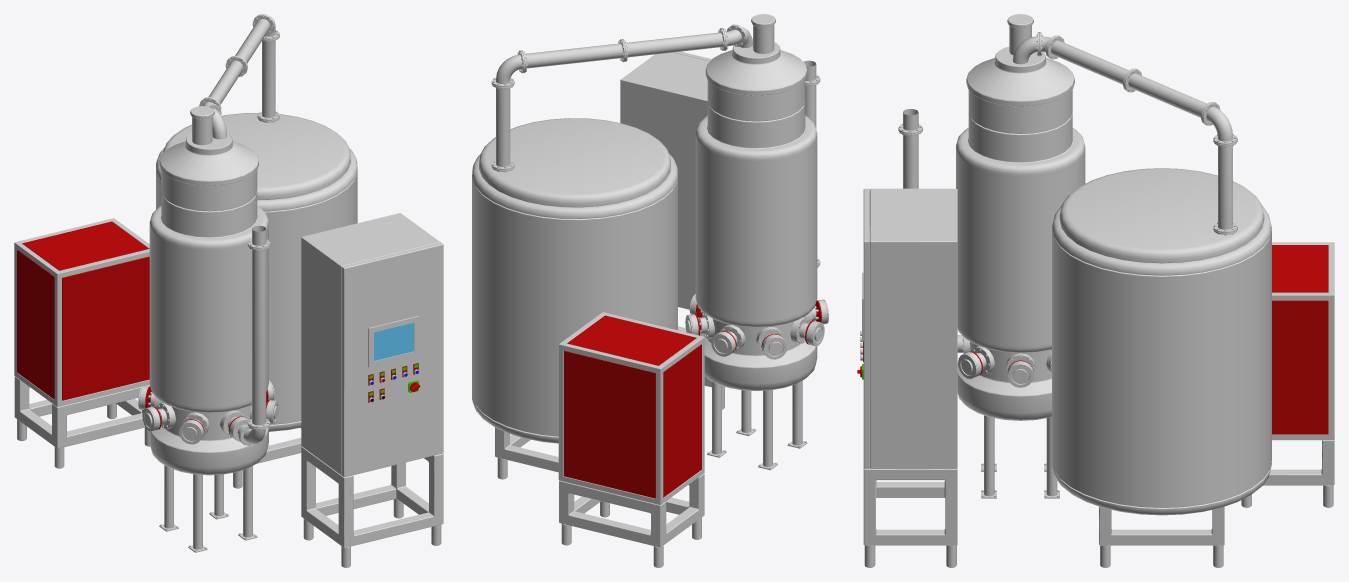
Rendered from Machinery02.fbx.
The picture shows the model from 3 angles, left to right: view 1: azimuth 30°, elevation 25°; view 2: azimuth 150°, elevation 25°; view 3: azimuth 270°, elevation 25°; orthographic projection. The views are drawn at different scales.
Parts seen in each view (by area): view 1: Machinery02, Machinery02Part02, Machinery02Part01; view 2: Machinery02, Machinery02Part02, Machinery02Part01; view 3: Machinery02, Machinery02Part02, Machinery02Part01.
Boxes of the visible parts, x1=… form: Machinery02: x1=14, y1=106, x2=443, y2=567; Machinery02Part02: x1=14, y1=218, x2=149, y2=407; Machinery02Part01: x1=138, y1=14, x2=420, y2=552; Machinery02: x1=472, y1=14, x2=817, y2=567; Machinery02Part02: x1=558, y1=312, x2=704, y2=504; Machinery02Part01: x1=491, y1=24, x2=828, y2=470; Machinery02: x1=863, y1=14, x2=1334, y2=567; Machinery02Part02: x1=1272, y1=242, x2=1334, y2=440; Machinery02Part01: x1=857, y1=32, x2=1237, y2=498.
Bounding box in the file's own units: 131 × 190 × 202.
